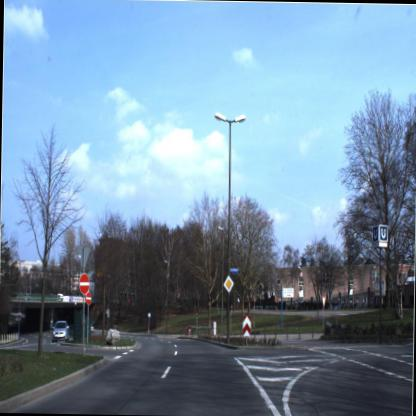other: (218, 272, 236, 296), (77, 274, 91, 296), (85, 290, 92, 311)
